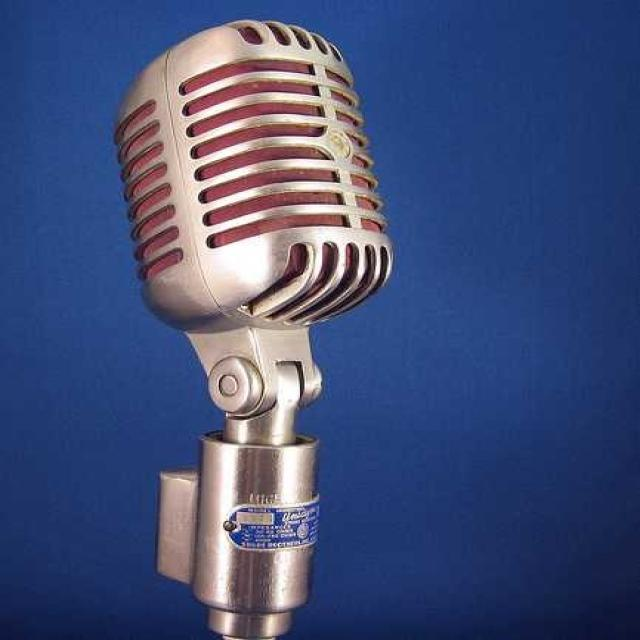microphone: (110, 13, 408, 640)
